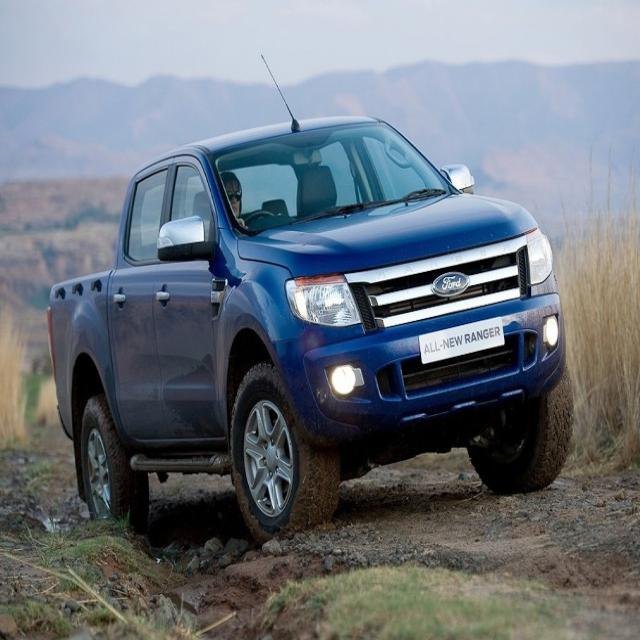door: (114, 167, 169, 458)
front_bumper: (272, 287, 565, 452)
front_glass: (215, 119, 458, 237)
front_left_side_light: (523, 226, 555, 288)
front_left_side_mirror: (442, 160, 473, 193)
front_right_side_door: (150, 152, 228, 451)
front_right_side_light: (283, 268, 363, 330)
front_right_side_mirror: (156, 217, 214, 269)
wheel: (230, 368, 320, 539), (466, 371, 568, 493), (81, 402, 142, 532)
